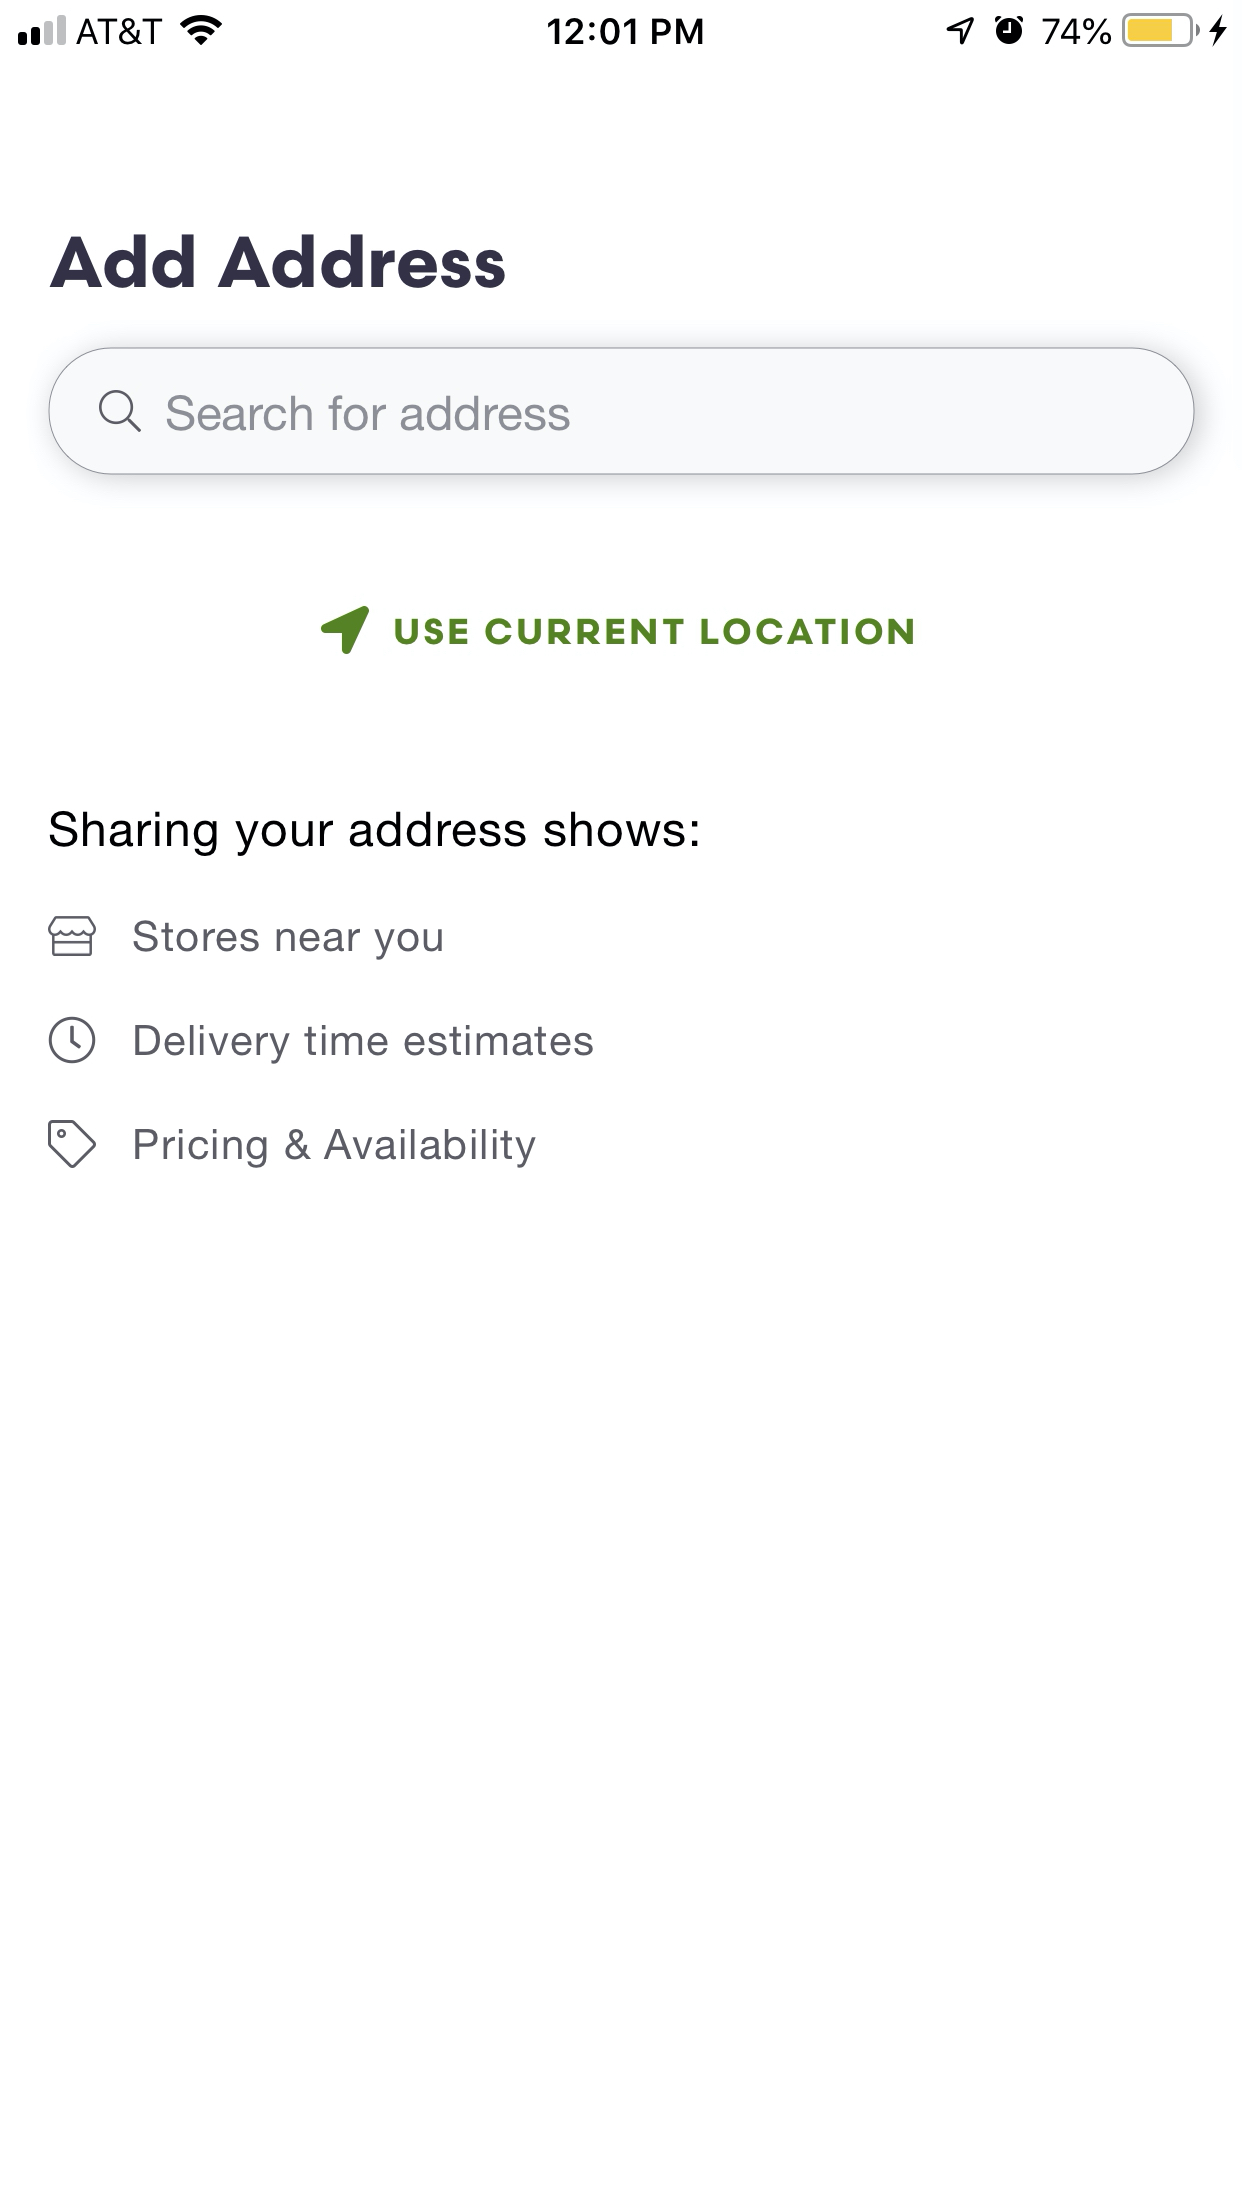EditText: (49, 347, 1195, 476)
Icon: (49, 1121, 97, 1169), (321, 607, 370, 655), (49, 1018, 97, 1065), (99, 390, 143, 434)
Image: (49, 916, 97, 957)
Text: (50, 811, 699, 858), (50, 234, 507, 290), (135, 1025, 593, 1066), (135, 1128, 537, 1169), (167, 396, 572, 434), (396, 619, 914, 646), (133, 921, 443, 961)
UpperTaskBar: (2, 2, 1242, 49)
